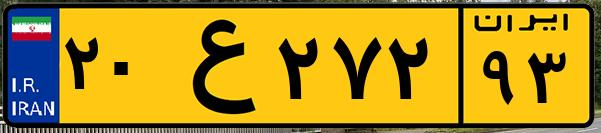0: (110, 28, 158, 98)
2: (270, 28, 330, 110), (385, 28, 445, 110), (57, 26, 110, 100)
3: (525, 38, 570, 115)
7: (330, 28, 385, 110)
9: (475, 38, 525, 113)
ع: (158, 12, 270, 120)
